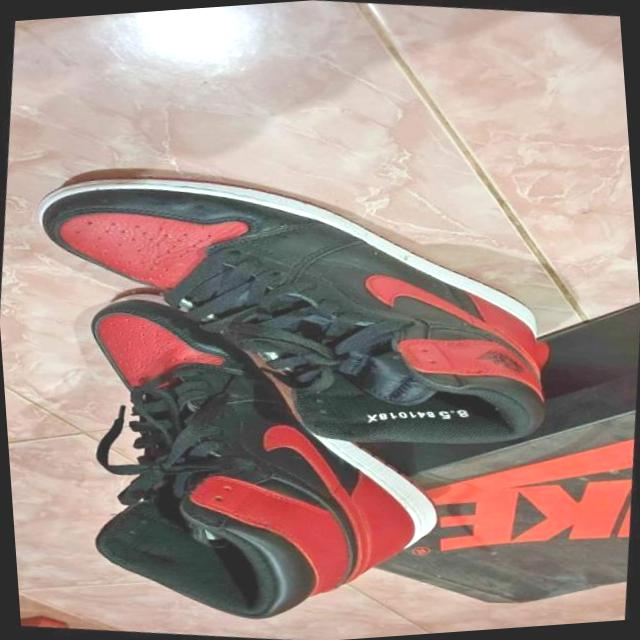nike_original_jordan: (9, 130, 576, 488), (42, 261, 476, 640)
